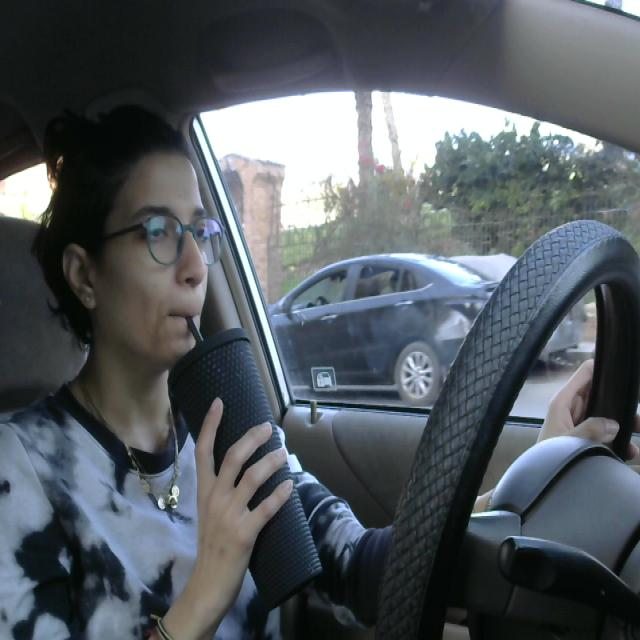drinking: (168, 298, 326, 605)
